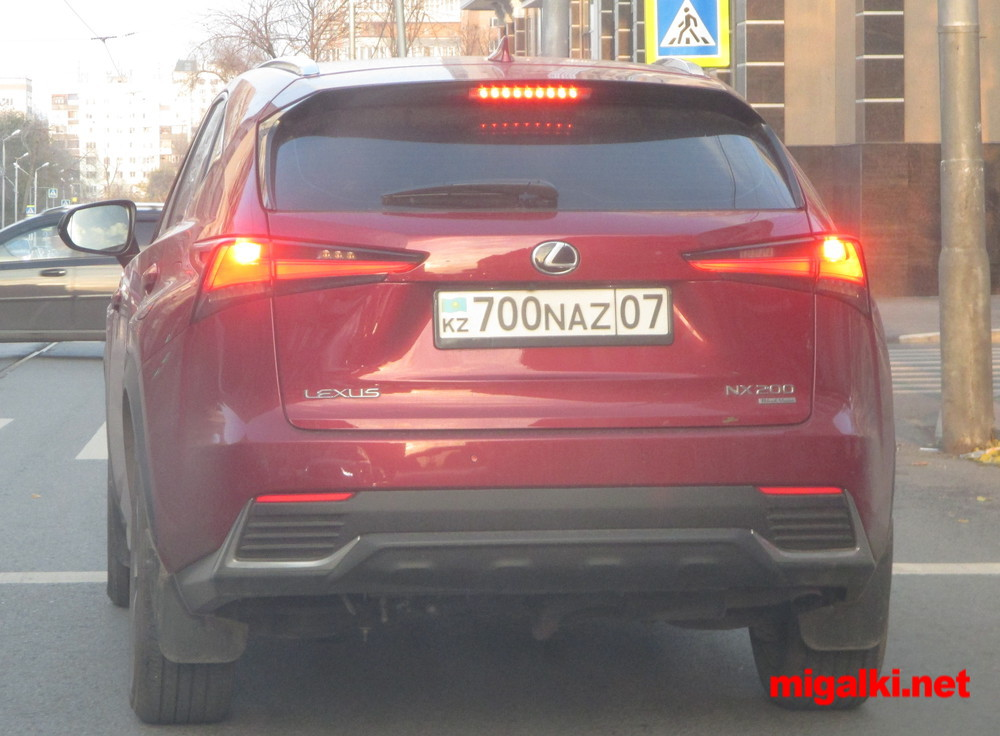license_plate: (433, 293, 670, 339)
